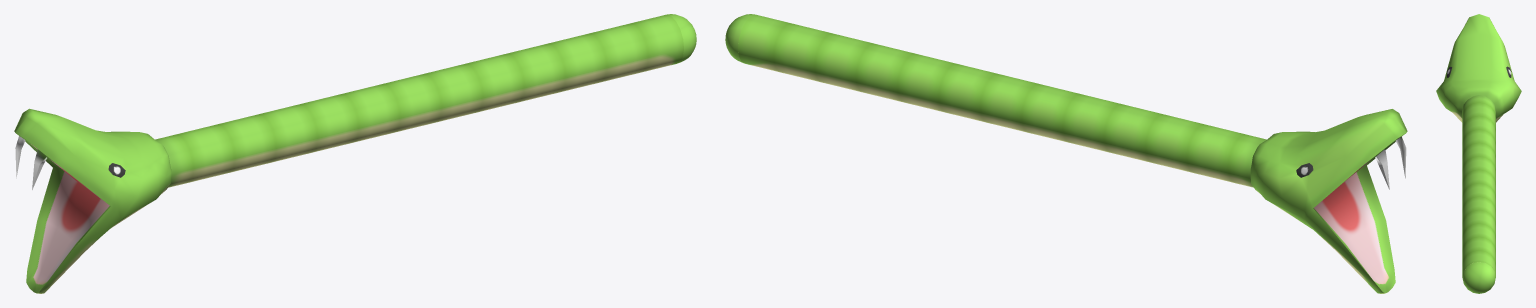
File: 57_Pin_Snake.fbx
3 views of the same model, side by side, from view 1: azimuth 30°, elevation 25°; view 2: azimuth 150°, elevation 25°; view 3: azimuth 270°, elevation 25° (orthographic). The views are drawn at different scales.
Parts seen in each view (by area): view 1: Pin_Snake_body, Pin_Snake, Pin_Snake_tail; view 2: Pin_Snake_body, Pin_Snake, Pin_Snake_tail; view 3: Pin_Snake_body, Pin_Snake, Pin_Snake_tail.
Part boxes in pixels (x1,y1,x2,y2): Pin_Snake_body: (155, 14, 683, 187); Pin_Snake: (14, 108, 171, 293); Pin_Snake_tail: (667, 14, 696, 63); Pin_Snake_body: (738, 14, 1266, 187); Pin_Snake: (1250, 109, 1407, 293); Pin_Snake_tail: (725, 14, 754, 63); Pin_Snake_body: (1462, 95, 1495, 275); Pin_Snake: (1436, 14, 1521, 122); Pin_Snake_tail: (1462, 262, 1495, 293).
Bounding box in the file's own units: 3.92 × 1.01 × 0.6442.
